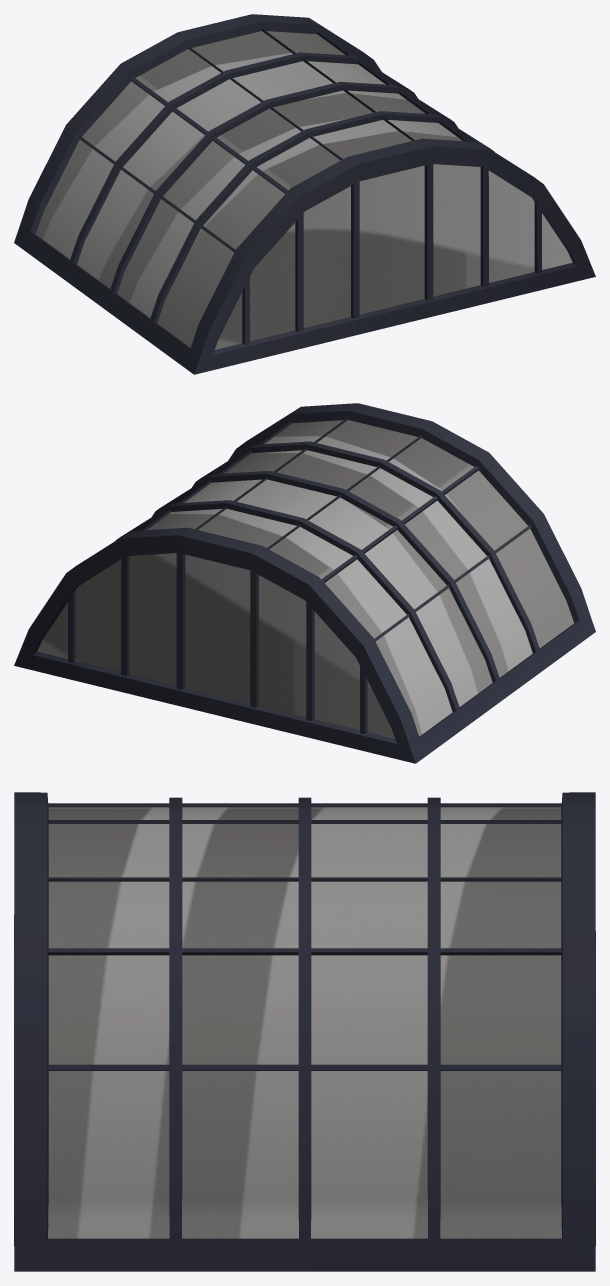
Rendered from RoofProp_5_C.fbx.
3 views of the same model, one above another, from view 1: azimuth 30°, elevation 25°; view 2: azimuth 150°, elevation 25°; view 3: azimuth 270°, elevation 25° (orthographic). The views are drawn at different scales.
Visible parts, largest first — view 1: RoofProp_5_C; view 2: RoofProp_5_C; view 3: RoofProp_5_C.
Part boxes in pixels (x1,y1,x2,y2): RoofProp_5_C: (14,14,595,374); RoofProp_5_C: (14,403,595,763); RoofProp_5_C: (14,792,595,1271).
Size of the model in its own units: 337 by 137 by 262.
